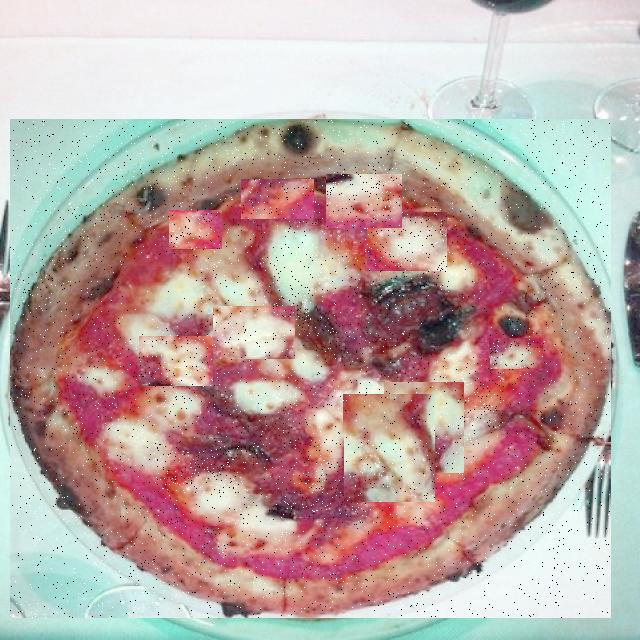Cheese: (344, 394, 435, 502), (385, 382, 464, 473), (278, 436, 366, 516), (436, 358, 505, 431), (155, 444, 246, 496), (368, 212, 447, 271), (214, 306, 295, 359), (328, 174, 403, 228), (414, 296, 487, 351), (125, 258, 184, 326), (140, 336, 213, 386), (449, 268, 525, 316), (316, 323, 398, 364), (274, 242, 314, 320), (242, 179, 314, 219), (170, 210, 222, 249), (490, 338, 543, 369)
Pizza: (11, 120, 610, 618)
